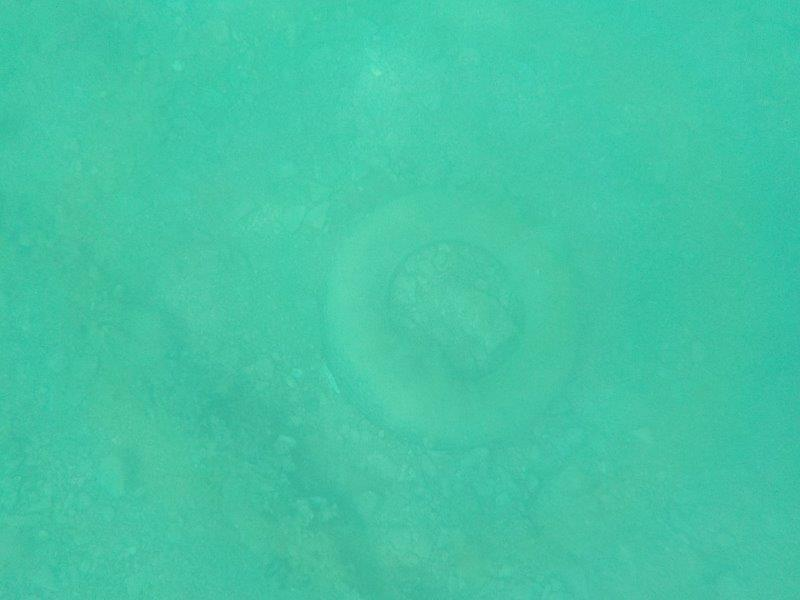tire: (312, 181, 596, 457)
